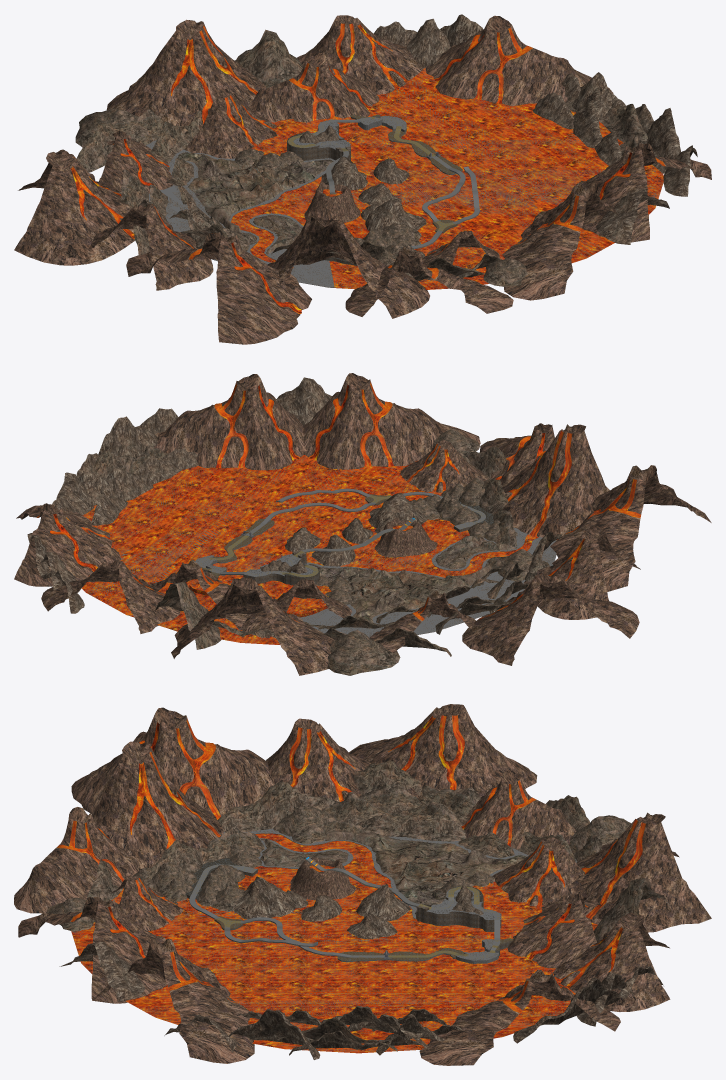
3 renders of one model, top to bottom at view 1: azimuth 30°, elevation 25°; view 2: azimuth 150°, elevation 25°; view 3: azimuth 270°, elevation 25°, orthographic. The views are drawn at different scales.
Parts seen in each view (by area): view 1: SketchUp (×4), Component_14 (×9), Component_15 (×9), group_1, Component_21 (×3), Component_1 (×4), Component_29 (×3), Component_20 (×2), Component_6 (×2), Component_22, Component_26 (×2), Component_3 (×2) (+4 smaller); view 2: SketchUp (×4), Component_14 (×10), Component_15 (×8), group_1, Component_6 (×4), Component_29 (×4), Component_1 (×4), Component_20 (×3), Component_21 (×3), Component_26 (×3), Component_3 (×3), Component_2 (+4 smaller); view 3: Component_15 (×10), SketchUp (×4), Component_14 (×8), Component_20 (×3), group_1, Component_3 (×4), Component_1 (×4), Component_6 (×4), Component_21 (×3), Component_19 (×2), Component_2, Component_18 (×2) (+6 smaller).
Part boxes in pixels (x1=…): SketchUp (×4): x1=146, y1=67, x2=663, y2=289; Component_14 (×9): x1=99, y1=15, x2=711, y2=344; Component_15 (×9): x1=14, y1=15, x2=501, y2=318; group_1: x1=178, y1=152, x2=333, y2=231; Component_21 (×3): x1=406, y1=18, x2=669, y2=244; Component_1 (×4): x1=321, y1=156, x2=426, y2=232; Component_29 (×3): x1=595, y1=108, x2=697, y2=196; Component_20 (×2): x1=76, y1=109, x2=163, y2=255; Component_6 (×2): x1=75, y1=108, x2=527, y2=287; Component_22: x1=235, y1=29, x2=303, y2=87; Component_26 (×2): x1=533, y1=92, x2=602, y2=148; Component_3 (×2): x1=413, y1=104, x2=647, y2=281; SketchUp (×4): x1=81, y1=455, x2=556, y2=644; Component_14 (×10): x1=14, y1=373, x2=711, y2=653; Component_15 (×8): x1=41, y1=424, x2=640, y2=675; group_1: x1=309, y1=563, x2=491, y2=622; Component_6 (×4): x1=327, y1=429, x2=549, y2=675; Component_29 (×4): x1=98, y1=408, x2=197, y2=484; Component_1 (×4): x1=285, y1=493, x2=427, y2=566; Component_20 (×3): x1=322, y1=478, x2=550, y2=656; Component_21 (×3): x1=34, y1=377, x2=331, y2=592; Component_26 (×3): x1=77, y1=467, x2=153, y2=525; Component_3 (×3): x1=90, y1=446, x2=562, y2=582; Component_2: x1=374, y1=518, x2=437, y2=557; Component_15 (×10): x1=92, y1=704, x2=711, y2=1011; SketchUp (×4): x1=71, y1=828, x2=597, y2=1053; Component_14 (×8): x1=14, y1=707, x2=620, y2=1065; Component_20 (×3): x1=142, y1=760, x2=602, y2=884; group_1: x1=325, y1=831, x2=526, y2=914; Component_3 (×4): x1=86, y1=781, x2=397, y2=1051; Component_1 (×4): x1=233, y1=876, x2=410, y2=939; Component_6 (×4): x1=46, y1=806, x2=631, y2=931; Component_21 (×3): x1=59, y1=941, x2=633, y2=1055; Component_19 (×2): x1=356, y1=813, x2=514, y2=857; Component_2: x1=290, y1=857, x2=356, y2=900; Component_18 (×2): x1=358, y1=781, x2=462, y2=826.
Size of the model in its own units: 79671 by 72802 by 10919.
24 materials, 20 textured.
